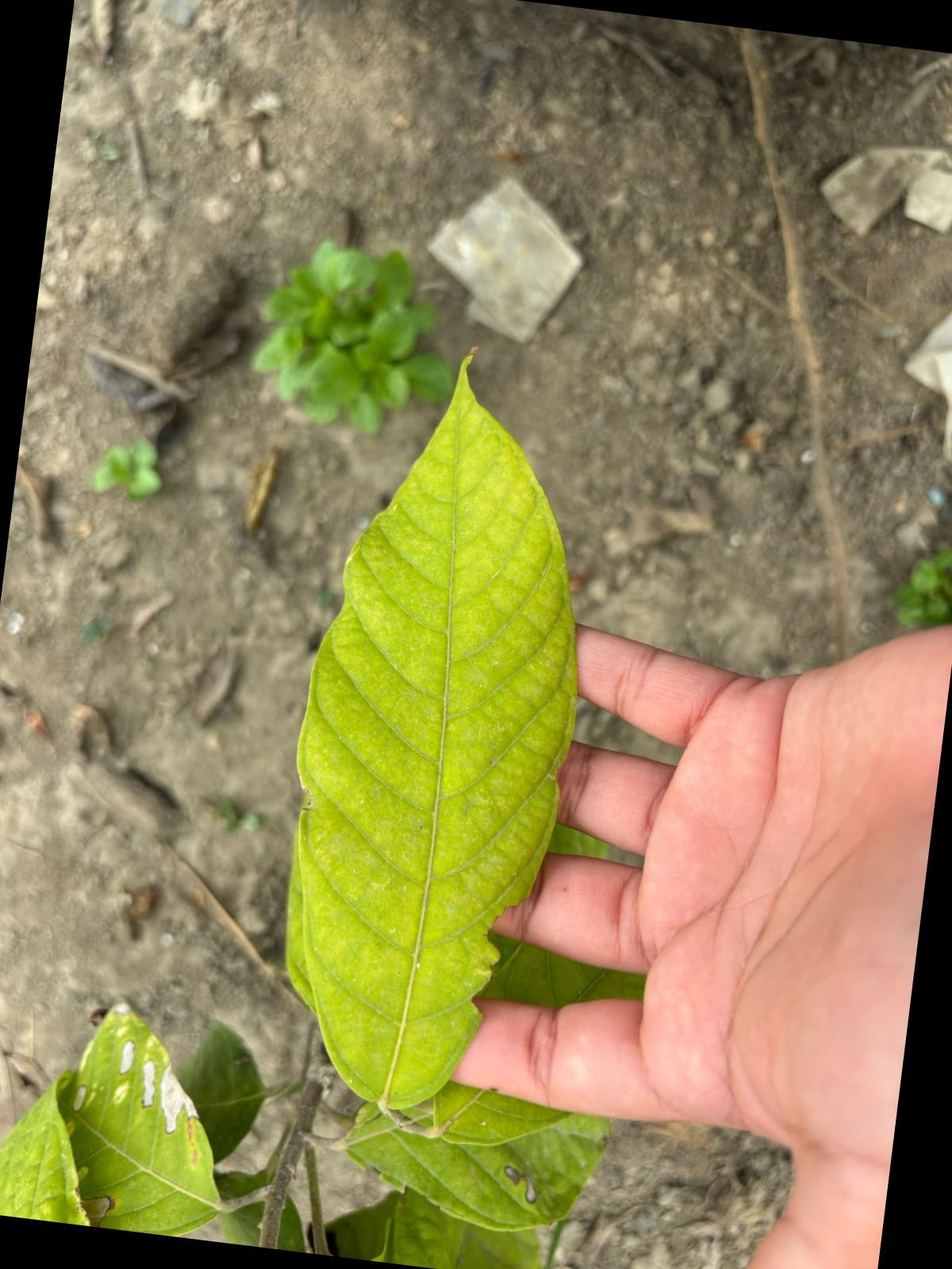Nitrogeno: (293, 363, 577, 1109)
